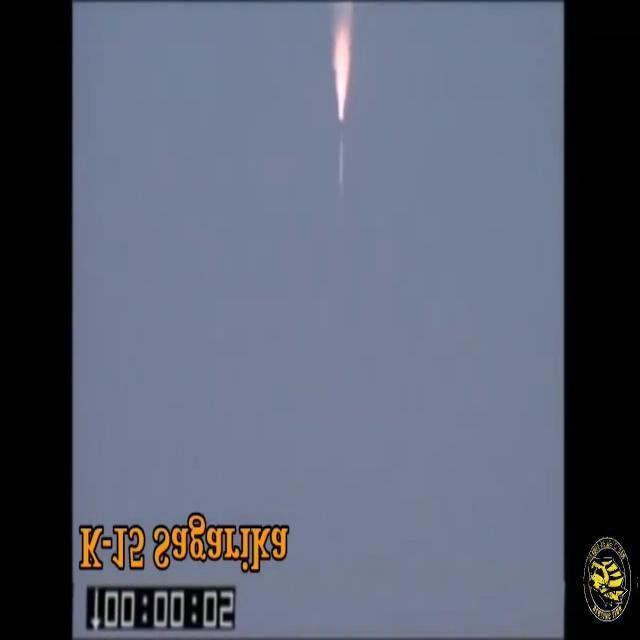Missile: (332, 110, 354, 208)
